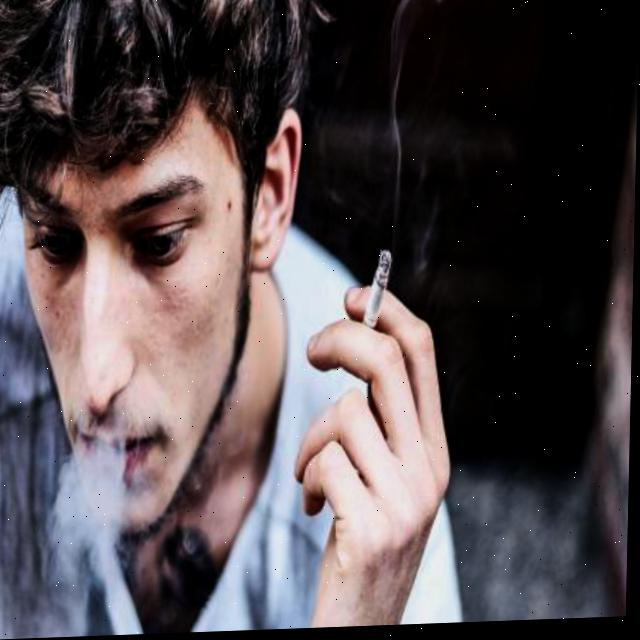cigarette: (364, 252, 395, 331)
